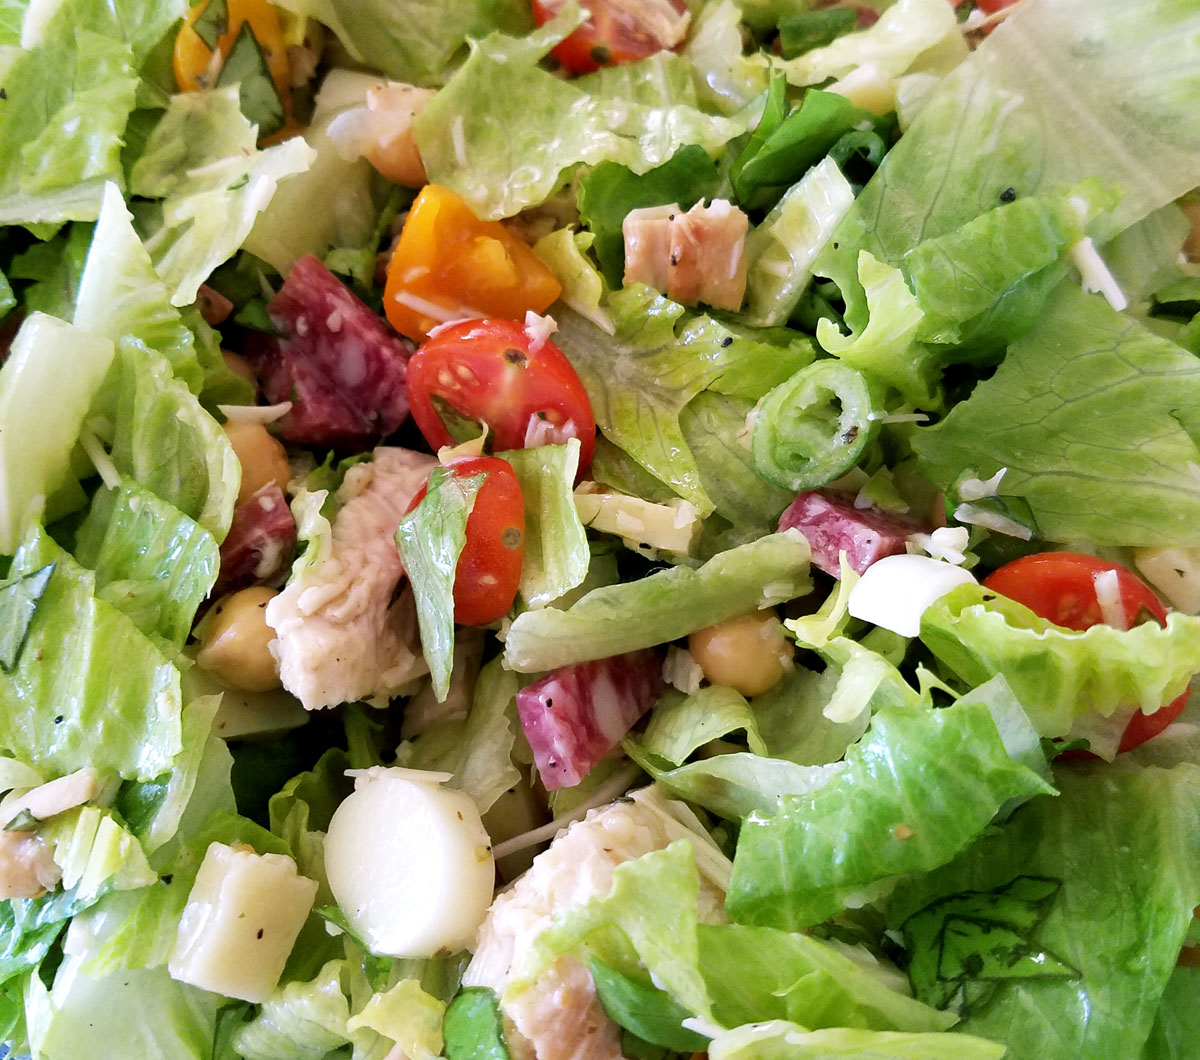chopped lettuce: (614, 320, 1126, 1008)
